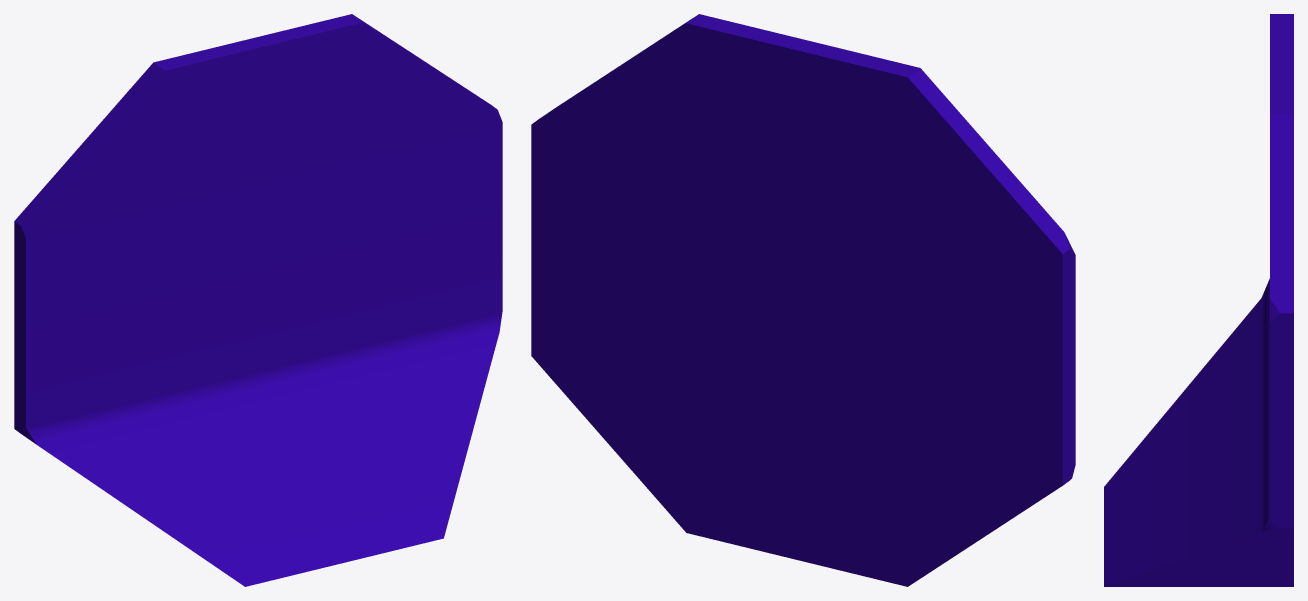
File: Door Soft.fbx
3 renders of one model, left to right at view 1: azimuth 30°, elevation 25°; view 2: azimuth 150°, elevation 25°; view 3: azimuth 270°, elevation 25°, orthographic. The views are drawn at different scales.
Visible parts, largest first — view 1: Door; view 2: Door; view 3: Door.
Part boxes in pixels (left/top/right/bottom): Door: left=14, top=14, right=502, bottom=586; Door: left=531, top=14, right=1075, bottom=586; Door: left=1104, top=14, right=1293, bottom=586.
Bounding box in the file's own units: 24 × 22 × 8.
